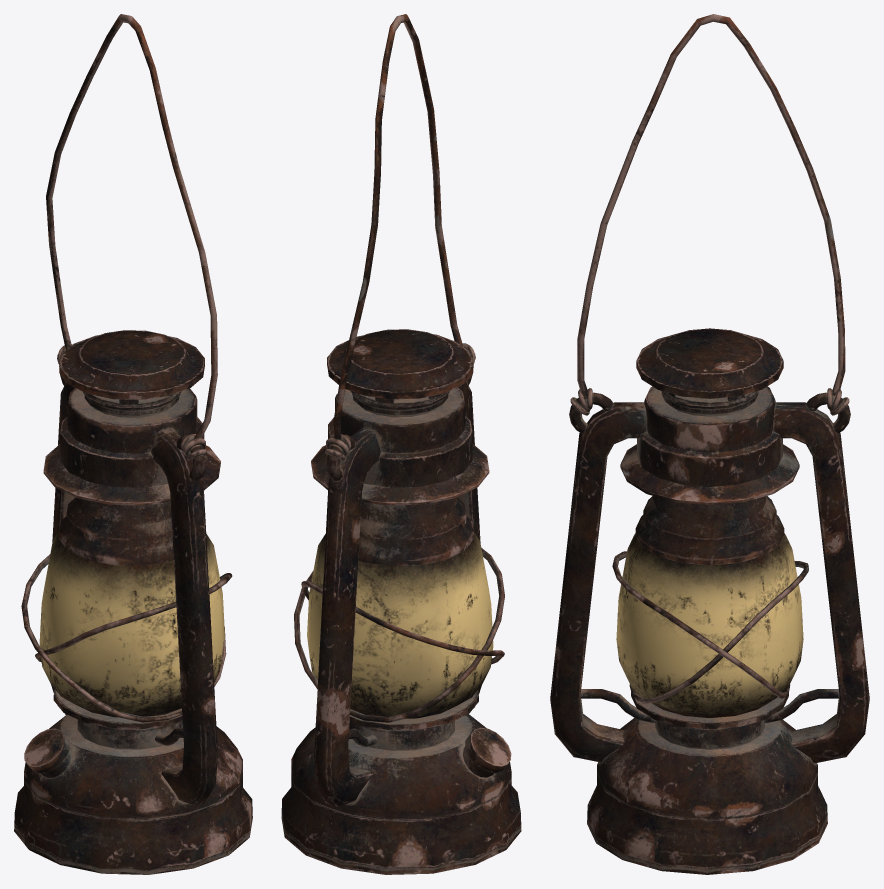
File: NPCLamp.fbx
3 views of the same model, side by side, from view 1: azimuth 30°, elevation 25°; view 2: azimuth 150°, elevation 25°; view 3: azimuth 270°, elevation 25° (orthographic).
Visible parts, largest first — view 1: P_OilLamp01; view 2: P_OilLamp01; view 3: P_OilLamp01.
Part boxes in pixels (x1=…): P_OilLamp01: x1=14, y1=14, x2=252, y2=874; P_OilLamp01: x1=281, y1=14, x2=521, y2=874; P_OilLamp01: x1=550, y1=14, x2=869, y2=874.
Size of the model in its own units: 39.42 by 145 by 51.7.
